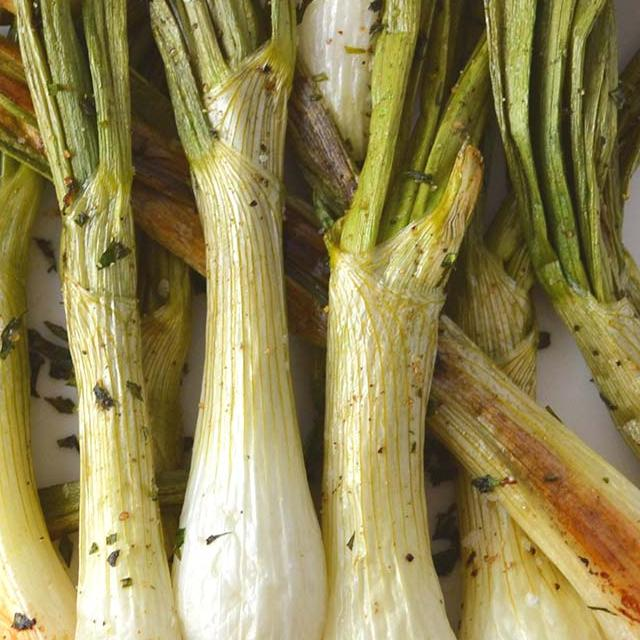green_onion: (149, 0, 324, 640), (484, 0, 640, 456), (445, 329, 640, 640), (0, 149, 74, 640), (258, 169, 336, 353)
